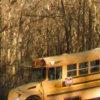Bus: (28, 45, 100, 99)
